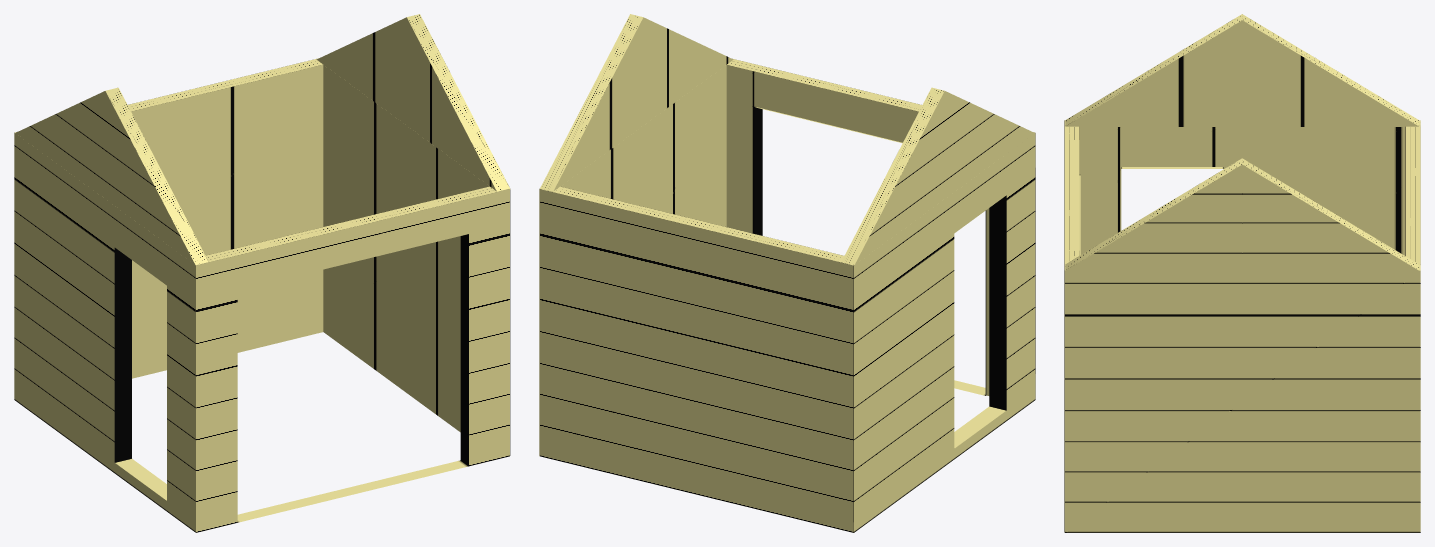
The model's file is casitaizq.obj.
3 views of the same model, side by side, from view 1: azimuth 30°, elevation 25°; view 2: azimuth 150°, elevation 25°; view 3: azimuth 270°, elevation 25° (orthographic).
Visible parts, largest first — view 1: group13_pasted__group12_pasted__pasted__pCube12; view 2: group13_pasted__group12_pasted__pasted__pCube12; view 3: group13_pasted__group12_pasted__pasted__pCube12.
Boxes of the visible parts, box(x1,y1,x2,y2) form: group13_pasted__group12_pasted__pasted__pCube12: box(14, 14, 510, 532); group13_pasted__group12_pasted__pasted__pCube12: box(539, 14, 1035, 532); group13_pasted__group12_pasted__pasted__pCube12: box(1064, 14, 1420, 532).
Bounding box in the file's own units: 2.61 × 2.97 × 2.61.
1 material, 1 textured.
